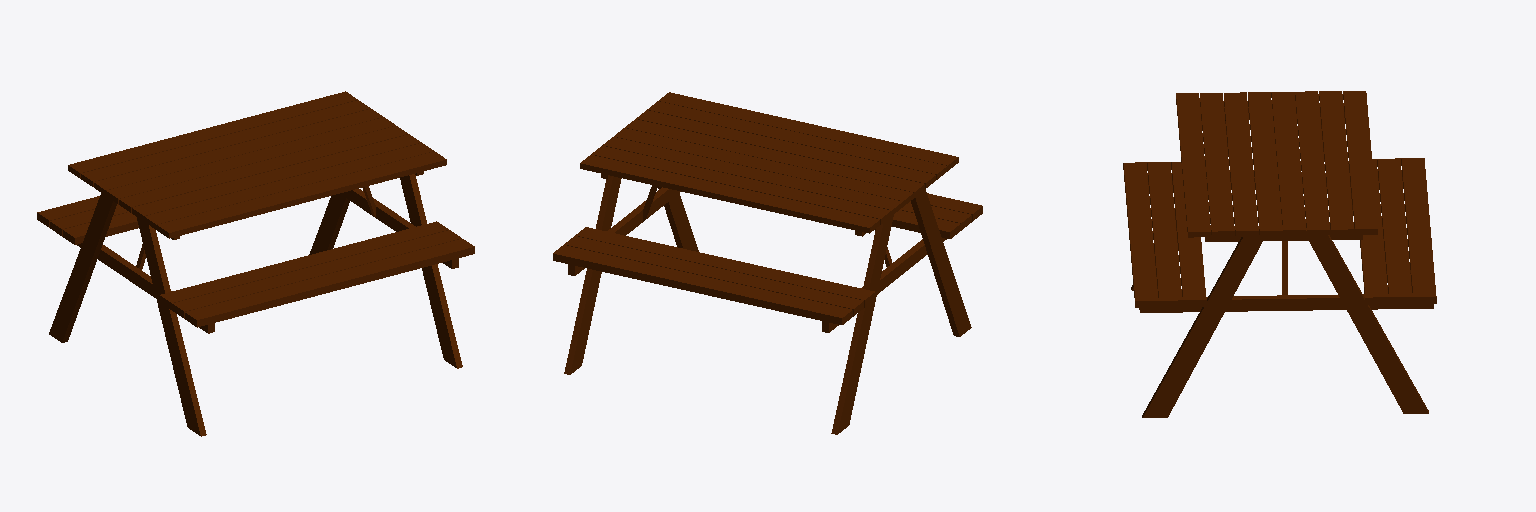
File: exterior.obj
The picture shows the model from 3 angles: view 1: azimuth 30°, elevation 25°; view 2: azimuth 150°, elevation 25°; view 3: azimuth 270°, elevation 25°; orthographic projection.
Visible parts, largest first — view 1: polySurface1_lambert1_0_lambert1, polySurface20_lambert1_0_lambert1, polySurface27_lambert1_0_lambert1, polySurface22_lambert1_0_lambert1; view 2: polySurface1_lambert1_0_lambert1, polySurface20_lambert1_0_lambert1, polySurface27_lambert1_0_lambert1, polySurface22_lambert1_0_lambert1; view 3: polySurface1_lambert1_0_lambert1, polySurface20_lambert1_0_lambert1, polySurface27_lambert1_0_lambert1, polySurface22_lambert1_0_lambert1.
Boxes of the visible parts, box(x1,y1,x2,y2) form: polySurface1_lambert1_0_lambert1: box(68, 91, 446, 238); polySurface20_lambert1_0_lambert1: box(37, 196, 474, 327); polySurface27_lambert1_0_lambert1: box(49, 174, 462, 436); polySurface22_lambert1_0_lambert1: box(77, 171, 458, 333); polySurface1_lambert1_0_lambert1: box(580, 92, 958, 233); polySurface20_lambert1_0_lambert1: box(553, 193, 982, 324); polySurface27_lambert1_0_lambert1: box(564, 176, 971, 434); polySurface22_lambert1_0_lambert1: box(568, 174, 946, 332); polySurface1_lambert1_0_lambert1: box(1176, 91, 1377, 237); polySurface20_lambert1_0_lambert1: box(1123, 158, 1436, 307); polySurface27_lambert1_0_lambert1: box(1131, 101, 1428, 417); polySurface22_lambert1_0_lambert1: box(1139, 103, 1433, 312).
Bounding box in the file's own units: 6.17 × 3.81 × 5.71.